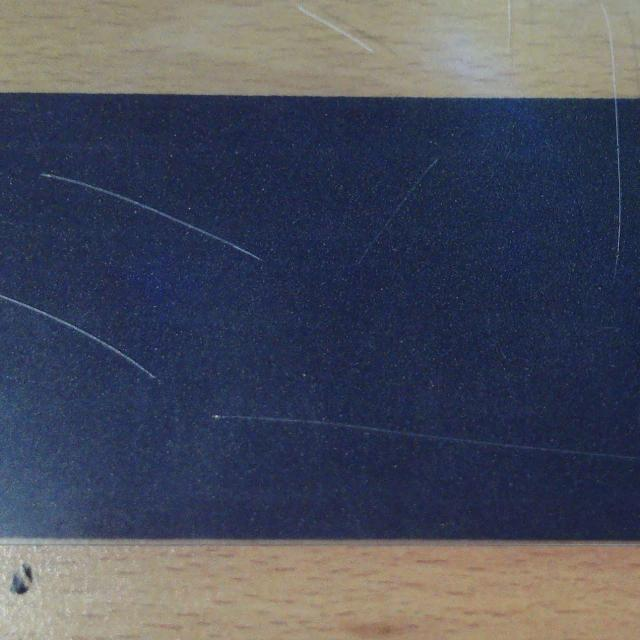defect: (39, 169, 262, 263), (212, 414, 640, 461), (0, 292, 161, 386), (359, 159, 437, 269), (611, 100, 625, 282)
